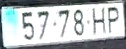5: (20, 10, 35, 41)
7: (36, 10, 50, 40), (56, 9, 70, 38)
8: (72, 8, 86, 37)
H: (91, 6, 106, 35)
P: (106, 6, 120, 34)
